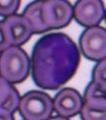E: (31, 33, 80, 89)
